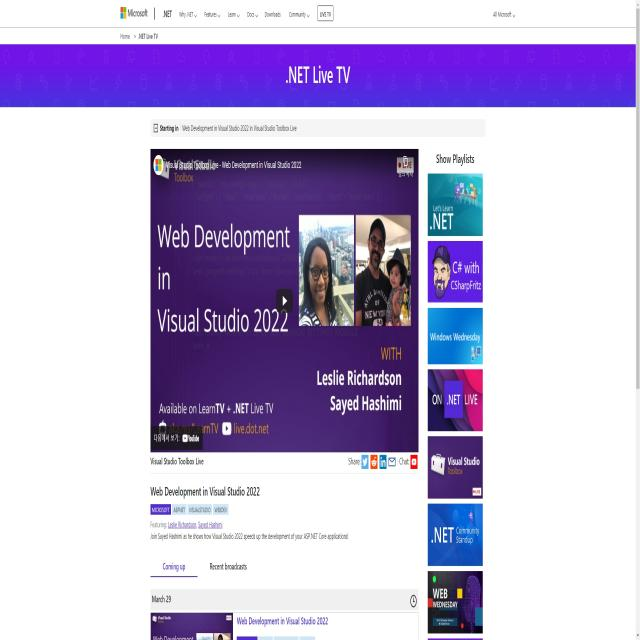content: (150, 479, 350, 545)
tab-bar: (116, 28, 162, 45)
